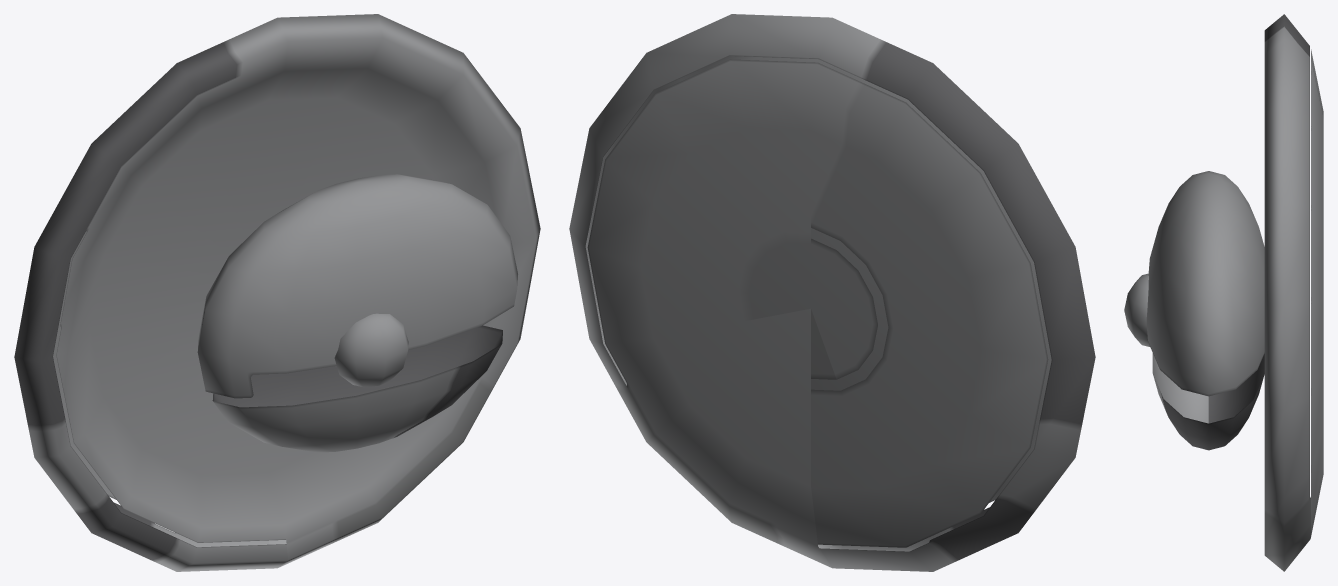
The picture shows the model from 3 angles, left to right: view 1: azimuth 30°, elevation 25°; view 2: azimuth 150°, elevation 25°; view 3: azimuth 270°, elevation 25°; orthographic projection. The views are drawn at different scales.
Bounding box in the file's own units: 0.4012 × 0.4012 × 0.1434.
